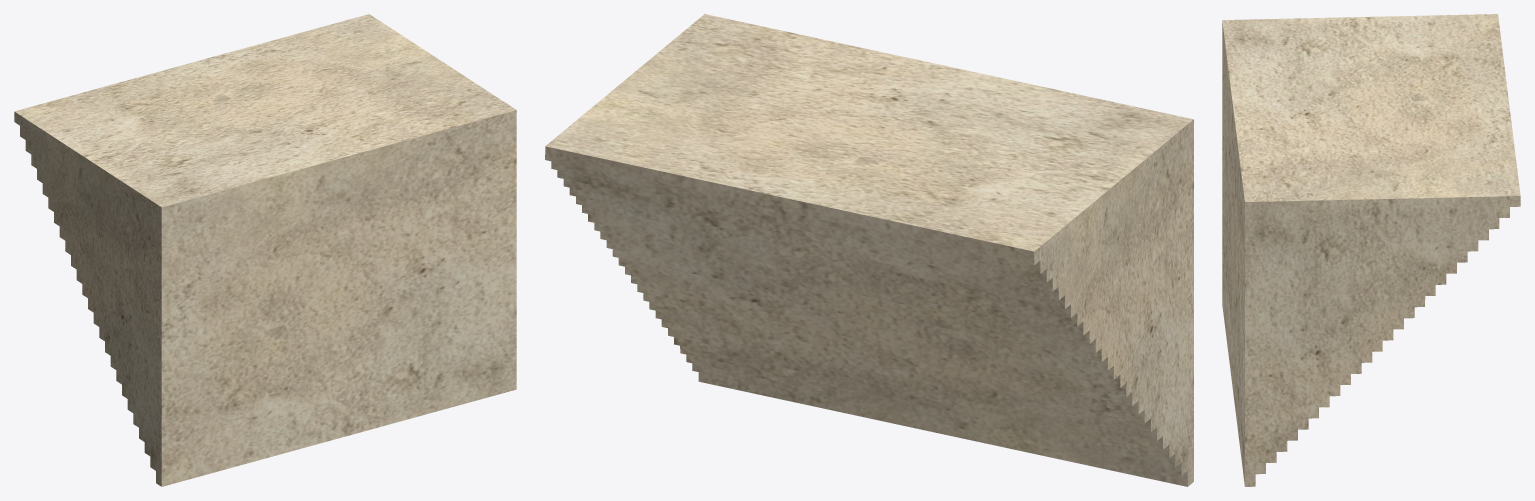
File: concrete_52.fbx
3 views of the same model, side by side, from view 1: azimuth 30°, elevation 25°; view 2: azimuth 150°, elevation 25°; view 3: azimuth 270°, elevation 25° (orthographic). The views are drawn at different scales.
Visible parts, largest first — view 1: concrete_52; view 2: concrete_52; view 3: concrete_52.
Boxes of the visible parts, x1,y1,x2,y2 form: concrete_52: (14,14,516,486); concrete_52: (545,14,1193,486); concrete_52: (1222,14,1520,486).
Bounding box in the file's own units: 293 × 207 × 197.
